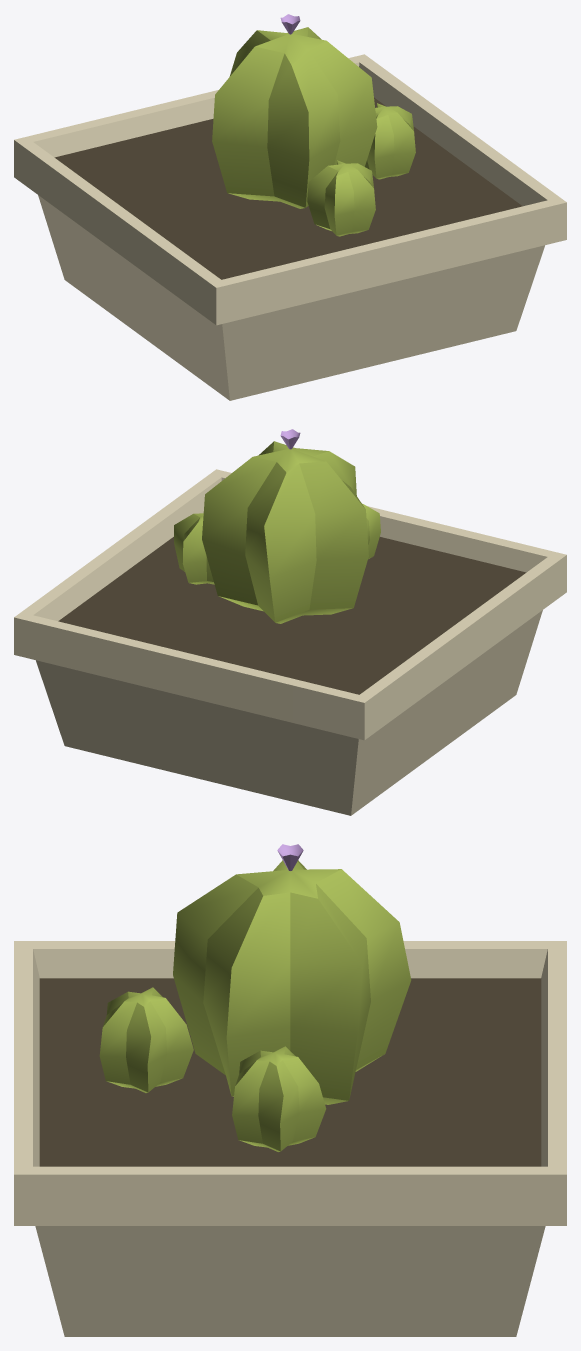
The model's file is plant02_04.gltf.
3 views of the same model, one above another, from view 1: azimuth 30°, elevation 25°; view 2: azimuth 150°, elevation 25°; view 3: azimuth 270°, elevation 25° (orthographic). The views are drawn at different scales.
Visible parts, largest first — view 1: plant02_stage01:pot, plant02_stage01:dirt, pCylinder1, plant02_stage02:pCylinder1, pCylinder2; view 2: plant02_stage01:pot, plant02_stage01:dirt, pCylinder1, pCylinder2, plant02_stage02:pCylinder1; view 3: plant02_stage01:pot, plant02_stage01:dirt, pCylinder1, plant02_stage02:pCylinder1, pCylinder2.
Part boxes in pixels (box(x1,y1,x2,y2)): plant02_stage01:pot: box(14, 54, 566, 400); plant02_stage01:dirt: box(54, 97, 522, 279); pCylinder1: box(212, 27, 377, 208); plant02_stage02:pCylinder1: box(307, 160, 375, 236); pCylinder2: box(365, 103, 415, 179); plant02_stage01:pot: box(14, 469, 566, 815); plant02_stage01:dirt: box(58, 537, 526, 694); pCylinder1: box(202, 441, 368, 623); pCylinder2: box(174, 513, 214, 584); plant02_stage02:pCylinder1: box(362, 503, 380, 559); plant02_stage01:pot: box(14, 941, 566, 1336); plant02_stage01:dirt: box(39, 978, 541, 1166); pCylinder1: box(173, 860, 411, 1104); plant02_stage02:pCylinder1: box(99, 987, 193, 1092); pCylinder2: box(232, 1046, 326, 1151).
Size of the model in its own units: 0.0188 by 0.0147 by 0.0188.
2 materials, 2 textured.
